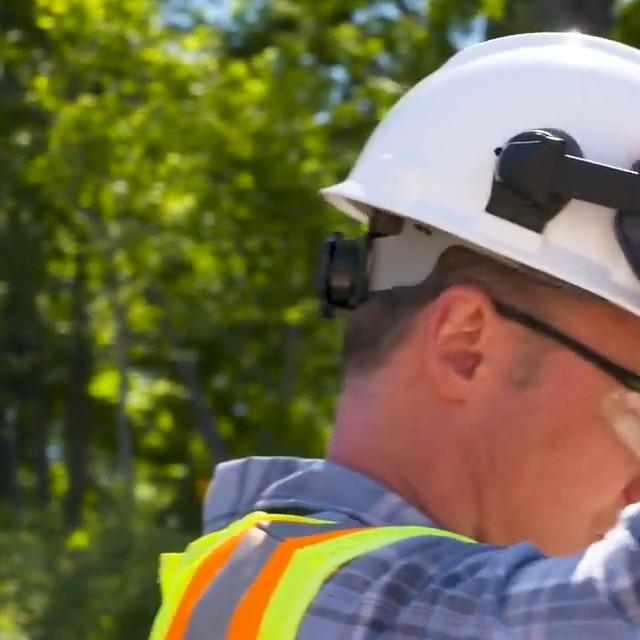Hardhat: (320, 27, 640, 388)
NO-Mask: (479, 438, 640, 565)
Person: (136, 27, 640, 640)
Safety Vest: (139, 510, 477, 640)
